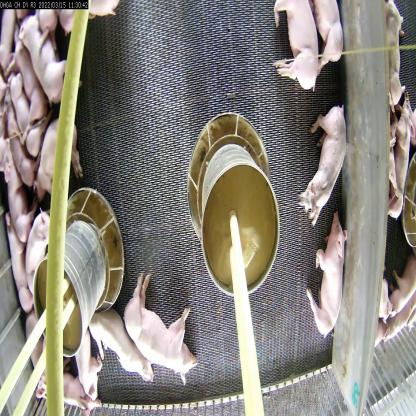Pig: (126, 275, 202, 383), (301, 101, 351, 224), (84, 307, 157, 384), (314, 215, 353, 345), (32, 121, 90, 205), (274, 0, 322, 93), (20, 18, 70, 103), (3, 70, 48, 158), (0, 142, 36, 248), (306, 0, 348, 81), (4, 206, 34, 319), (68, 333, 106, 405), (4, 103, 35, 179), (22, 210, 53, 283)
